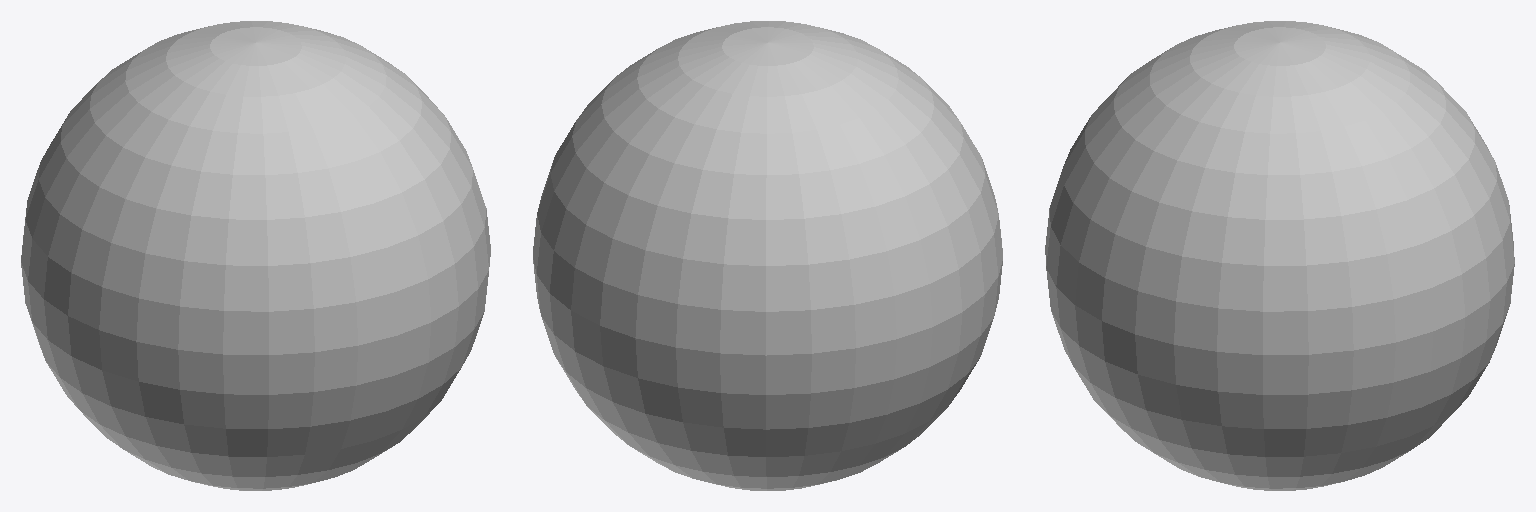
Rendered from mesh_legjoint_l4.obj.
3 renders of one model, left to right at view 1: azimuth 30°, elevation 25°; view 2: azimuth 150°, elevation 25°; view 3: azimuth 270°, elevation 25°, orthographic.
Parts seen in each view (by area): view 1: Sphere.015_Sphere.024; view 2: Sphere.015_Sphere.024; view 3: Sphere.015_Sphere.024.
Boxes of the visible parts, x1,y1,x2,y2 form: Sphere.015_Sphere.024: [21, 21, 490, 490]; Sphere.015_Sphere.024: [533, 21, 1002, 490]; Sphere.015_Sphere.024: [1045, 21, 1514, 490].
Size of the model in its own units: 0.2992 by 0.3 by 0.2992.